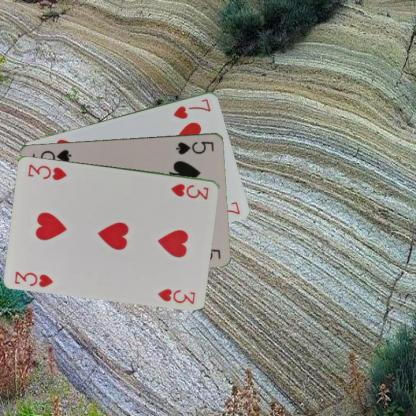3h: (168, 180, 210, 201), (12, 268, 55, 288)
5s: (174, 138, 216, 156)
7h: (171, 96, 212, 120)
